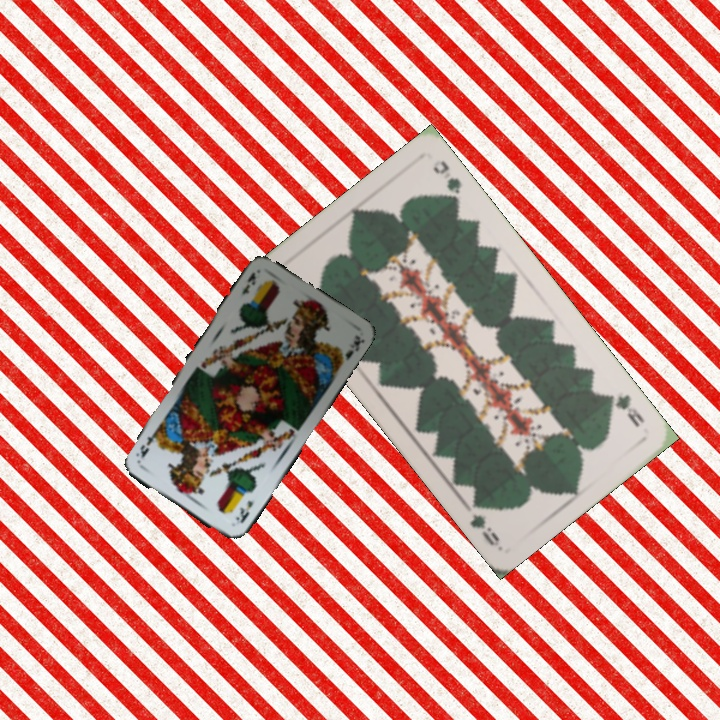EK: (231, 496, 256, 526), (237, 268, 259, 298)
G9: (600, 389, 647, 431)
